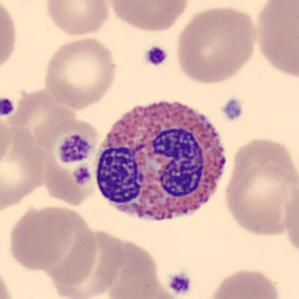Eosinophil: (89, 89, 234, 232)
Platelets: (56, 132, 94, 165), (166, 270, 194, 297), (220, 96, 245, 123), (143, 44, 169, 68), (71, 165, 93, 186), (0, 96, 16, 118)
RBC: (220, 133, 298, 240), (173, 3, 260, 85), (40, 34, 119, 110), (229, 162, 299, 238), (6, 203, 77, 272), (83, 243, 159, 299), (60, 234, 126, 297), (252, 0, 299, 82), (46, 210, 96, 287), (10, 88, 74, 148), (0, 126, 46, 206), (105, 0, 190, 33), (42, 0, 112, 38), (207, 266, 283, 299), (103, 272, 185, 299), (0, 0, 19, 78), (0, 107, 13, 171), (0, 262, 18, 299)
